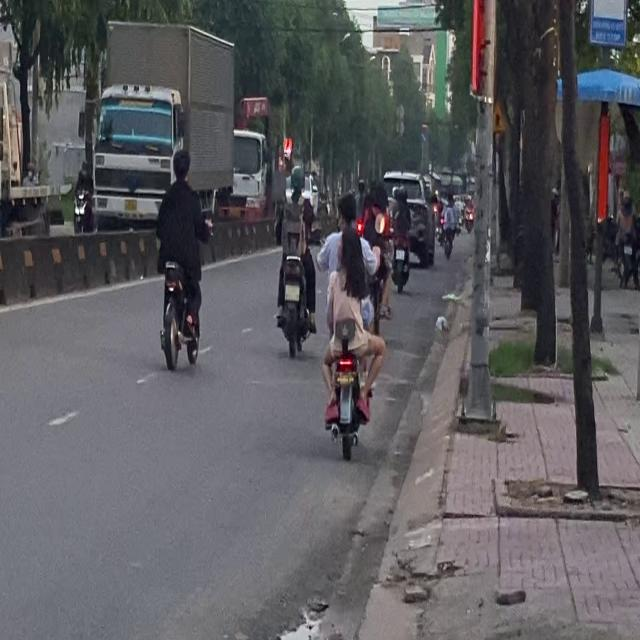licenseplate: (318, 176, 387, 460), (154, 146, 207, 372)
motorcyclist: (335, 226, 366, 278), (332, 192, 357, 230), (171, 146, 191, 181)
